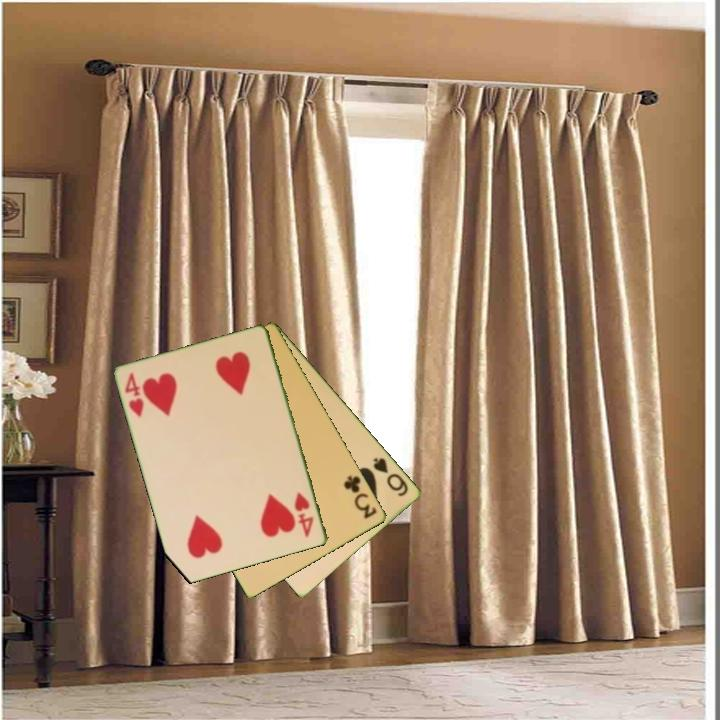3c: (340, 472, 380, 522)
4h: (291, 489, 317, 541), (121, 369, 147, 420)
6s: (370, 454, 412, 500)
